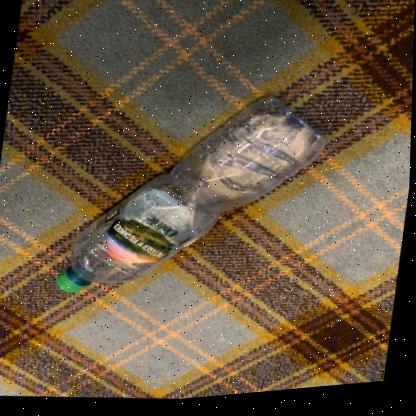Plastic: (56, 100, 326, 293)
